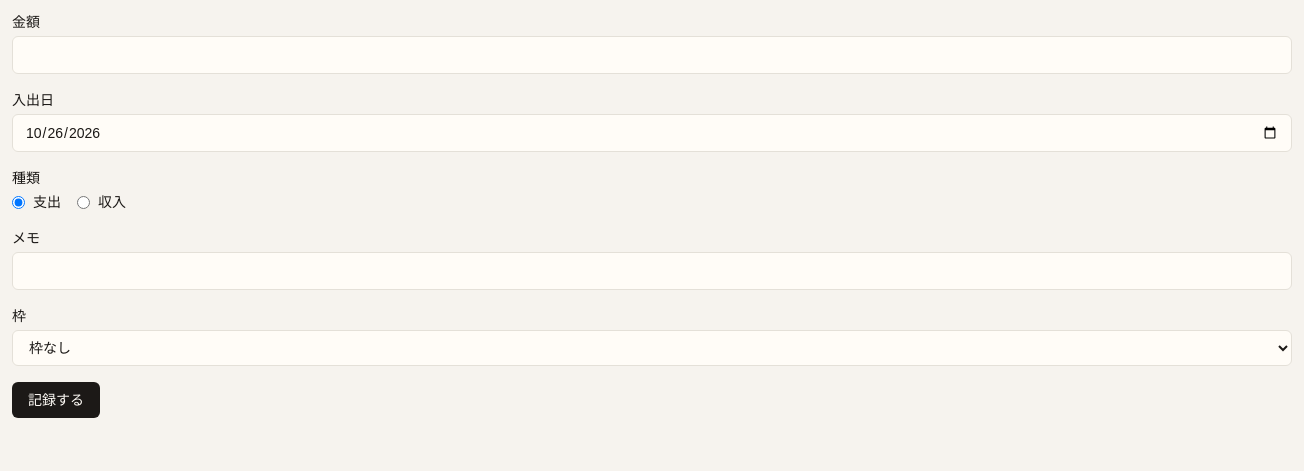
Scenario: 空の金額は記録できない
The width and height of the screenshot is (1304, 471).
Click the button "記録する": (56, 400) [12, 382, 100, 418]
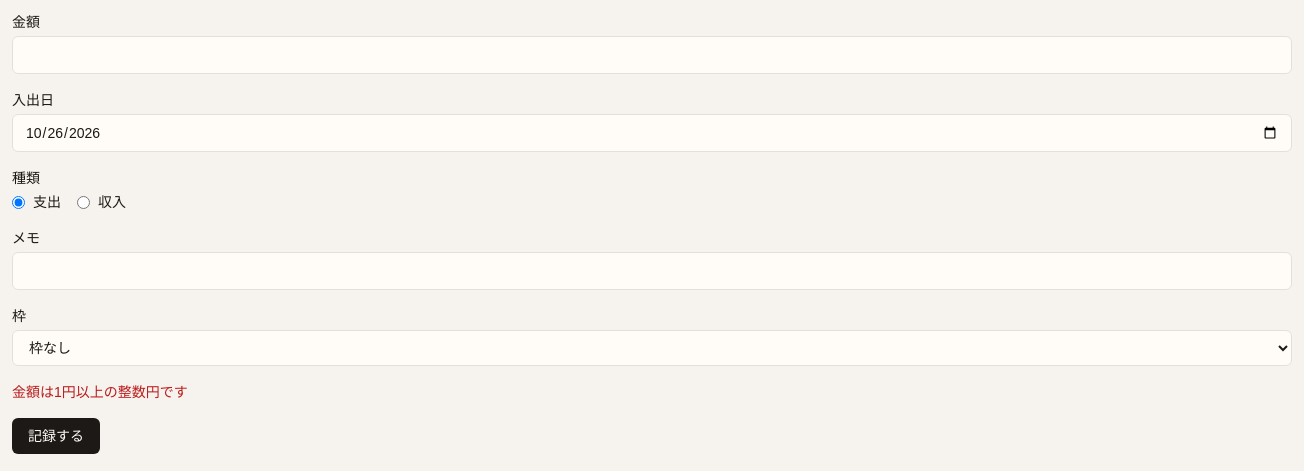
Now the message reads "金額は1円以上の整数円です", box [12, 384, 188, 400]
